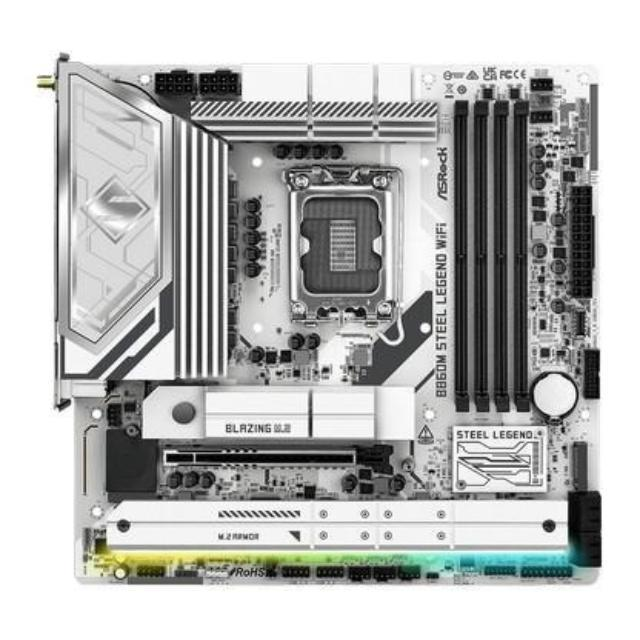Mainboard: (41, 46, 604, 586)
